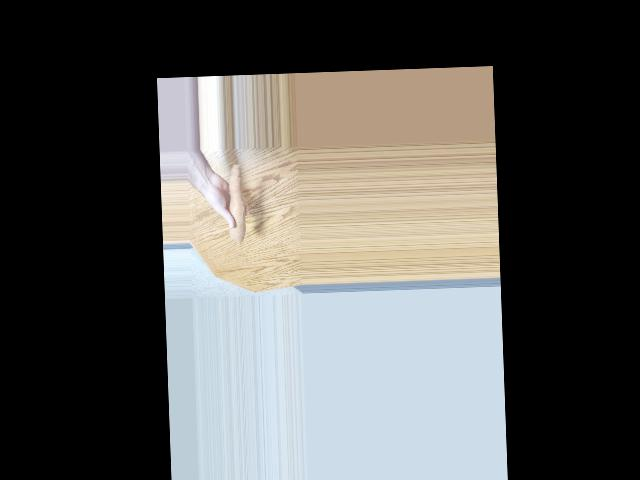sweet_potato: (223, 164, 248, 240)
